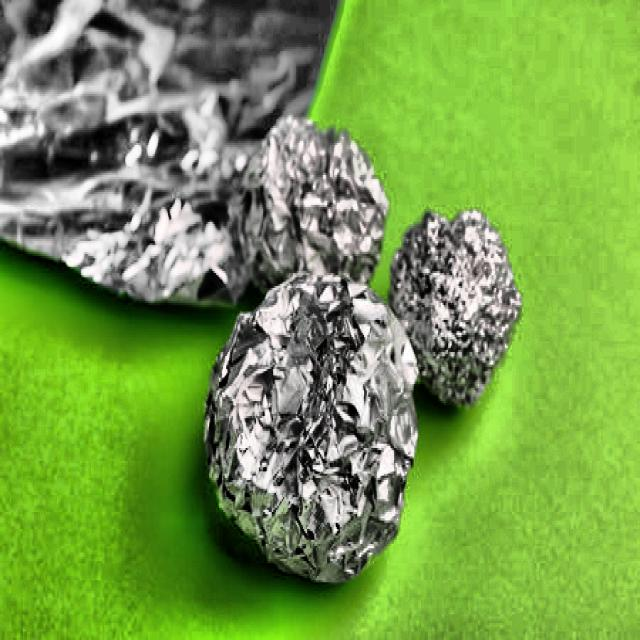Foil: (195, 266, 430, 614), (393, 200, 526, 413)
